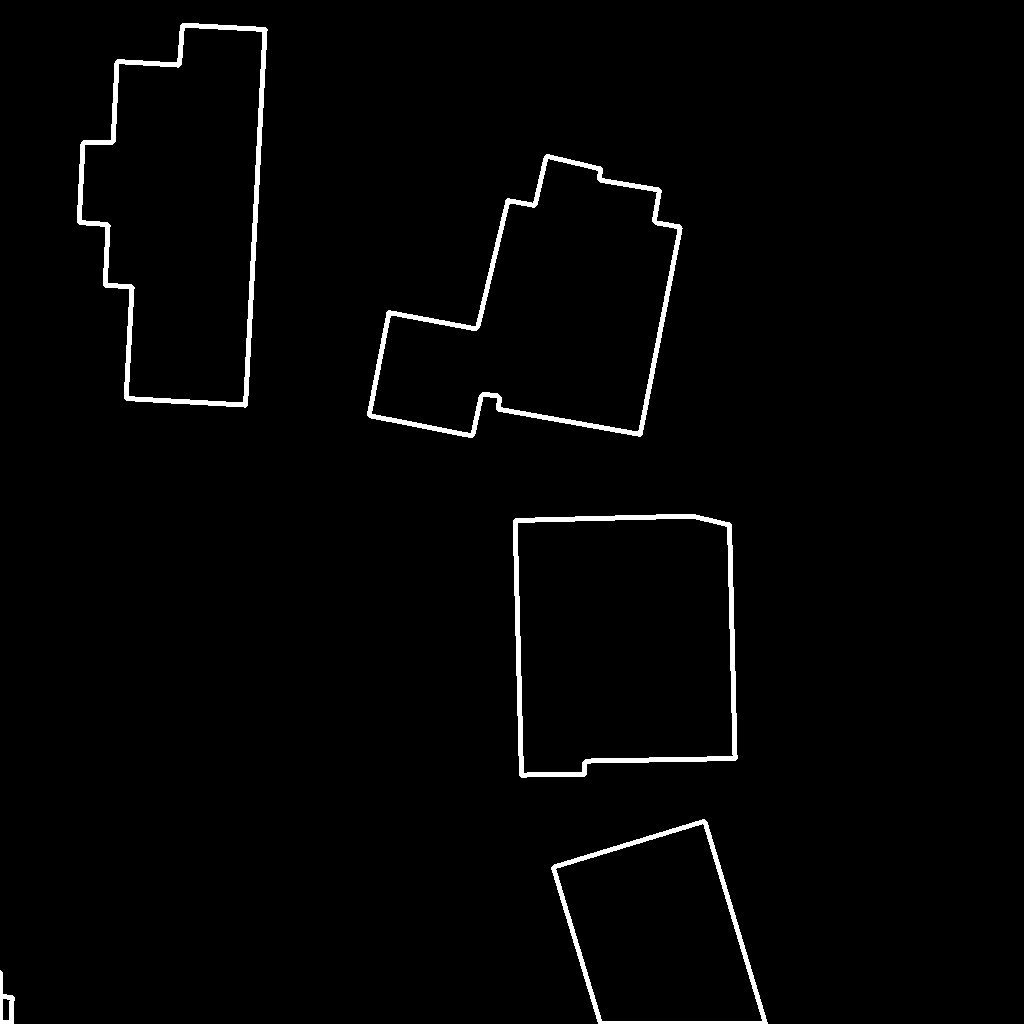building: (369, 156, 681, 437), (79, 25, 266, 406), (515, 516, 736, 776), (553, 821, 767, 1024), (0, 851, 13, 1024)
